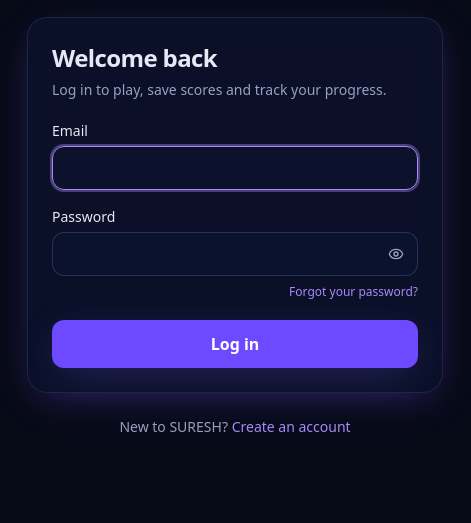
it: LoginPage › shows the server error message on invalid credentials
Type "player@example.com" into the field labelled "Email" at {"x": 235, "y": 168}, box [52,146,418,190]
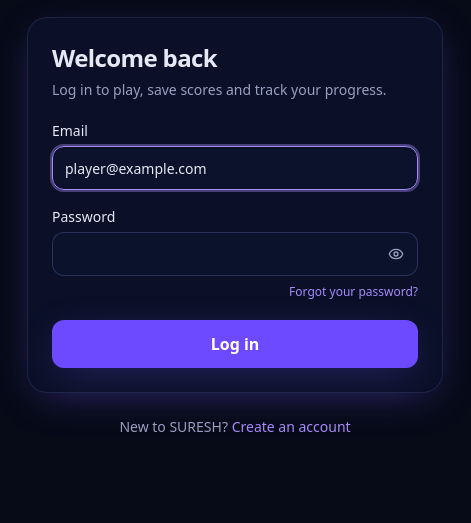
Type "wrong-password" into the password field labelled "Password" at {"x": 235, "y": 254}, box [52,232,418,276]
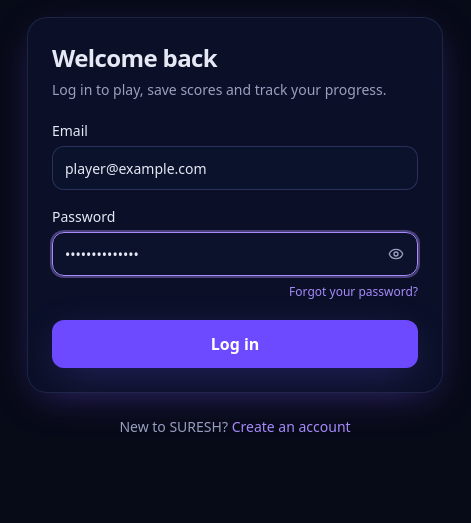
Click the button "Log in" at {"x": 235, "y": 344}, box [52,320,418,368]
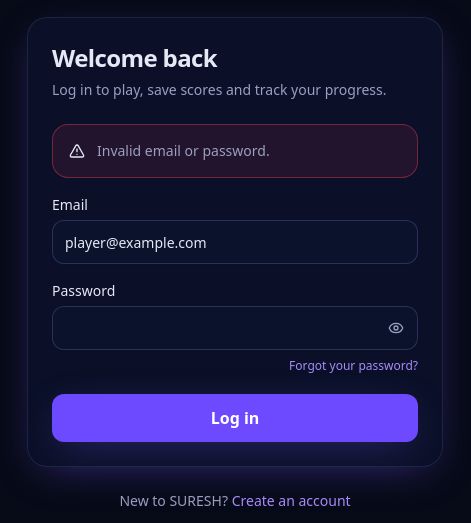
Expected: the text "Invalid email or password." is shown, [97,141,270,161]
Expected: the password field labelled "Password" is empty, [52,306,418,350]
